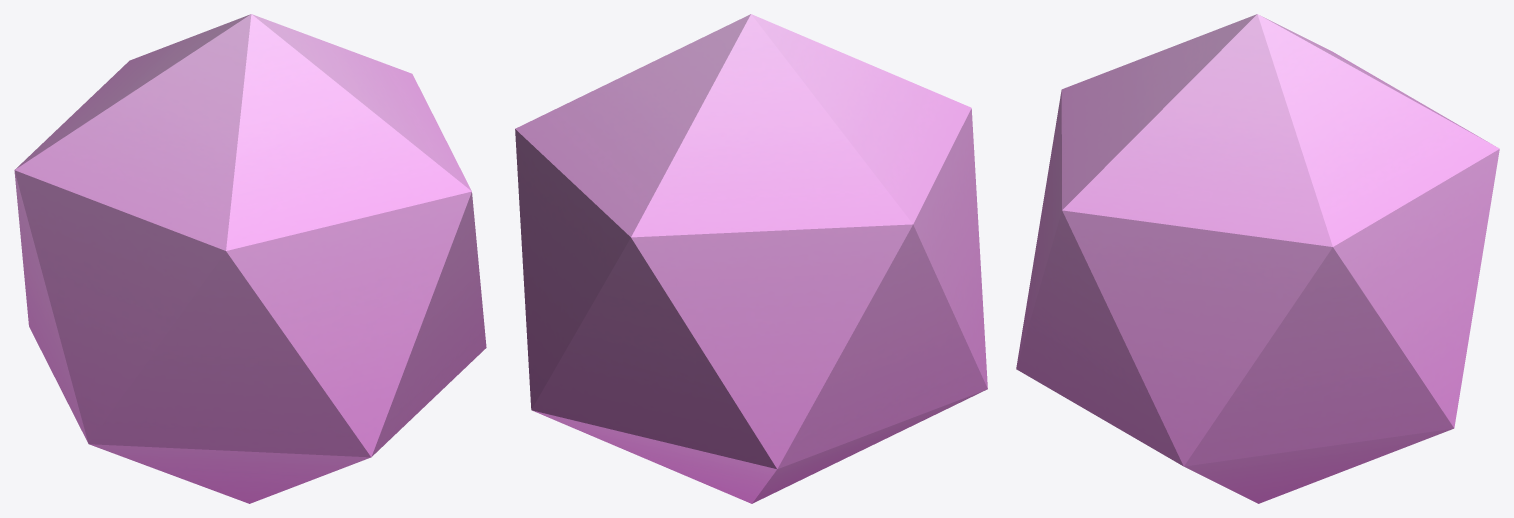
The model's file is Xmas-bulb.glb.
3 renders of one model, left to right at view 1: azimuth 30°, elevation 25°; view 2: azimuth 150°, elevation 25°; view 3: azimuth 270°, elevation 25°, orthographic.
Visible parts, largest first — view 1: Christmas_Tree_055_Christmas_Tree_0; view 2: Christmas_Tree_055_Christmas_Tree_0; view 3: Christmas_Tree_055_Christmas_Tree_0.
Boxes of the visible parts, x1,y1,x2,y2 form: Christmas_Tree_055_Christmas_Tree_0: (14, 14, 486, 503); Christmas_Tree_055_Christmas_Tree_0: (515, 14, 987, 503); Christmas_Tree_055_Christmas_Tree_0: (1016, 14, 1499, 503).
Bounding box in the file's own units: 26.98 × 31.69 × 28.32.
Materials: 1 (1 with a texture image).
